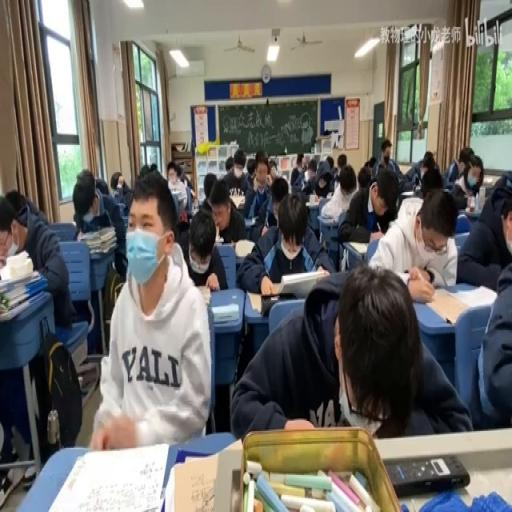calculator: (43, 442, 169, 511), (394, 273, 494, 324), (171, 452, 223, 512), (78, 224, 116, 254), (76, 357, 98, 391), (210, 301, 238, 323), (390, 269, 416, 286), (234, 238, 256, 256), (196, 284, 212, 308), (246, 290, 262, 312), (347, 240, 369, 254), (229, 193, 245, 209), (463, 208, 481, 219), (318, 215, 336, 226), (243, 214, 256, 224), (400, 189, 414, 198), (305, 198, 319, 206), (170, 186, 180, 194), (214, 236, 222, 243), (326, 190, 332, 198)
paper: (230, 266, 468, 439), (91, 173, 210, 451), (0, 188, 75, 478), (236, 186, 334, 293), (368, 185, 458, 293), (456, 174, 512, 292), (181, 209, 228, 289), (73, 169, 112, 218), (8, 188, 48, 230), (222, 148, 250, 195), (373, 140, 402, 184), (445, 147, 474, 189), (110, 168, 132, 208), (419, 165, 443, 199), (398, 164, 420, 194), (379, 199, 396, 228), (338, 168, 355, 195), (202, 170, 217, 200), (314, 174, 331, 199), (358, 165, 371, 188), (422, 151, 434, 172), (290, 165, 299, 188), (306, 155, 318, 172), (331, 166, 341, 186), (246, 158, 255, 178), (267, 158, 277, 176), (254, 151, 266, 166), (177, 164, 186, 184), (295, 152, 304, 171), (365, 155, 377, 169), (138, 162, 150, 176), (302, 176, 312, 192), (224, 155, 234, 169), (337, 154, 346, 169), (168, 170, 177, 184), (326, 155, 332, 169), (150, 162, 156, 171)
person: (385, 452, 470, 496), (259, 292, 298, 316)
